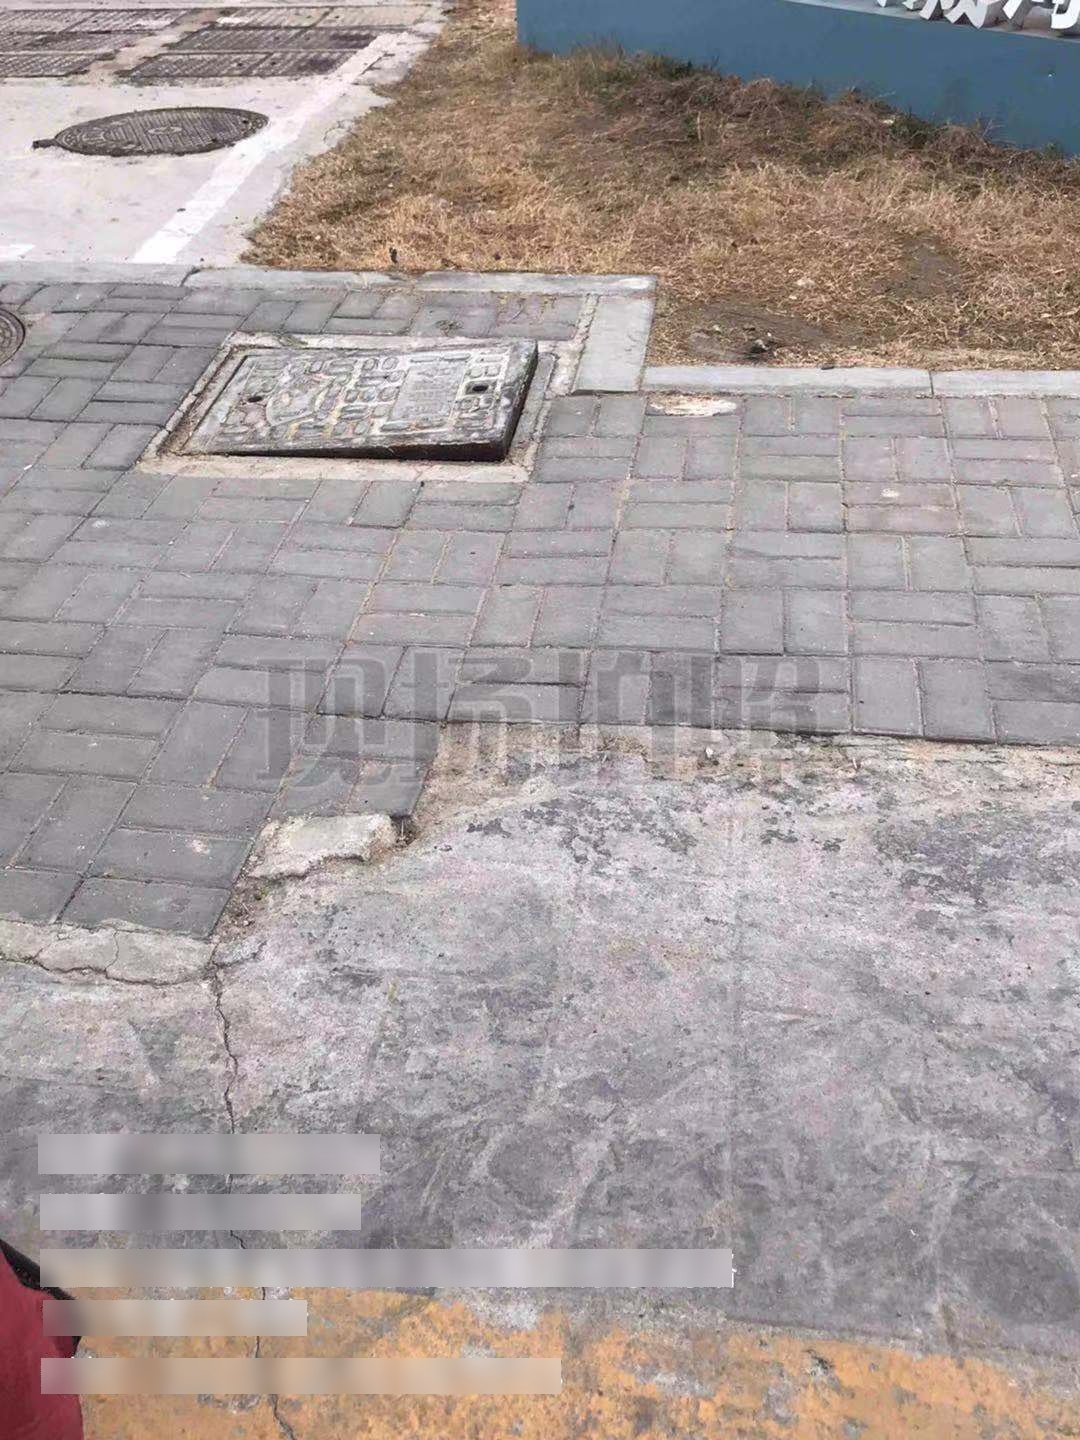good: (31, 105, 272, 155)
uncovered: (155, 339, 559, 480)
